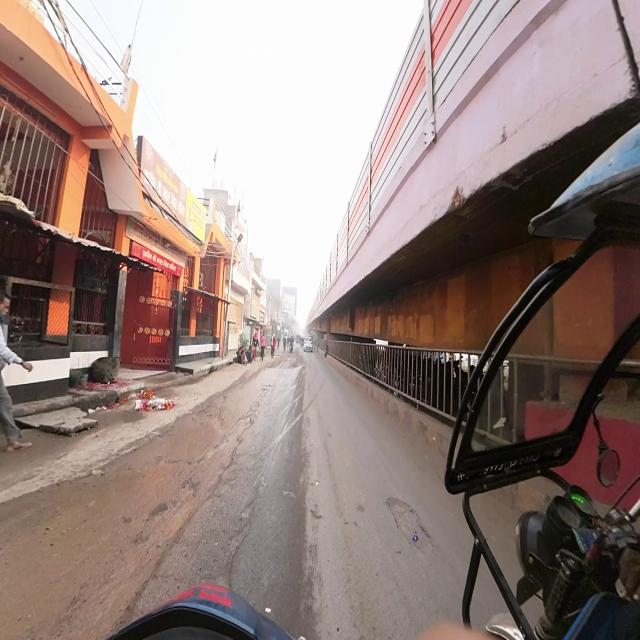Garbage: (133, 388, 177, 417)
